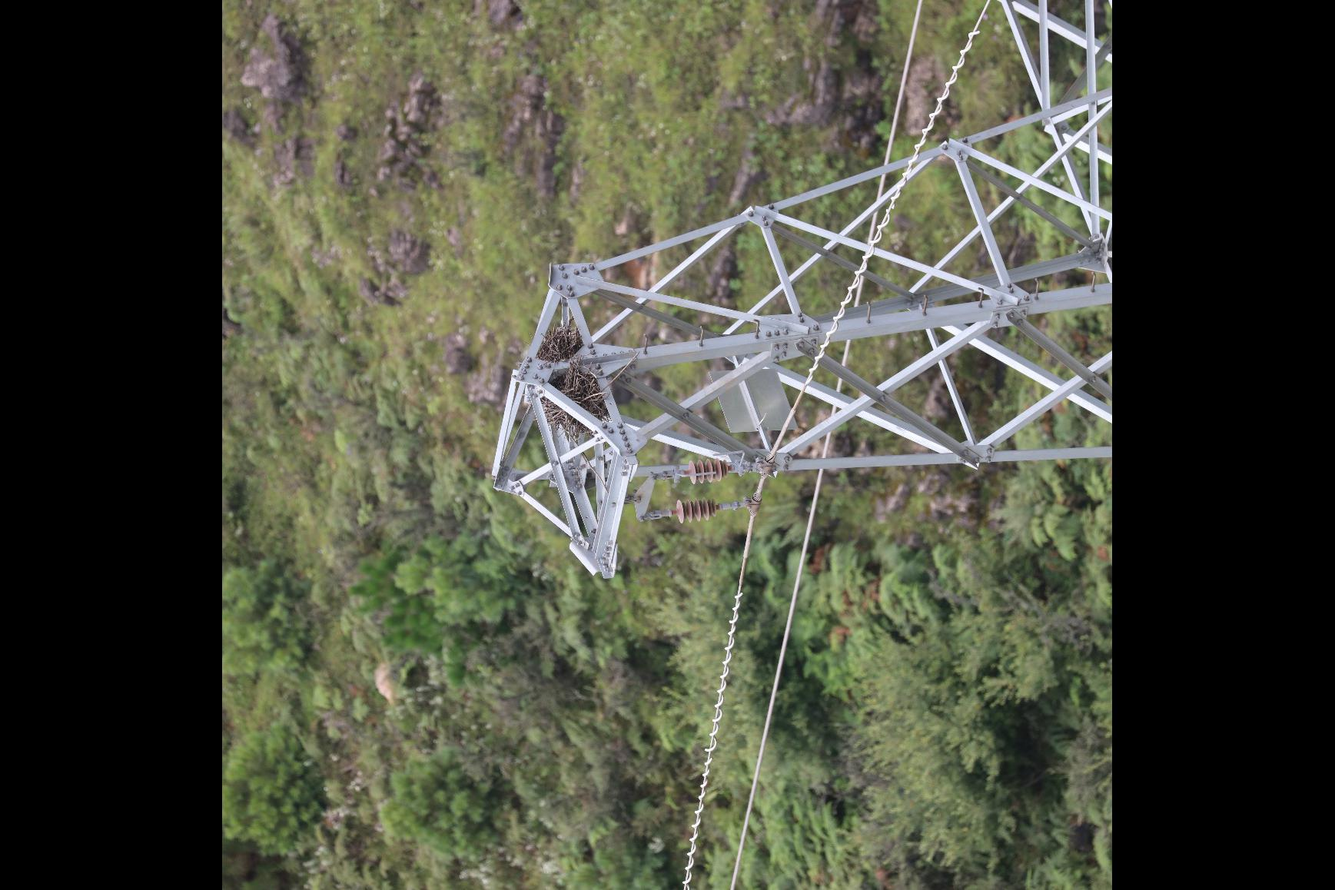nest: (533, 321, 611, 440)
